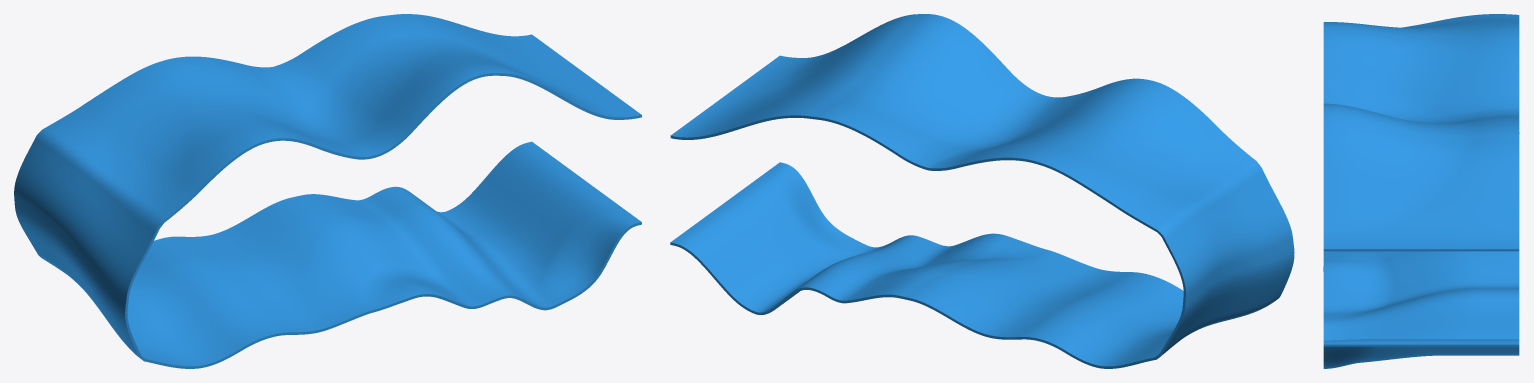
File: RiverWrap.fbx
3 views of the same model, side by side, from view 1: azimuth 30°, elevation 25°; view 2: azimuth 150°, elevation 25°; view 3: azimuth 270°, elevation 25° (orthographic). The views are drawn at different scales.
Visible parts, largest first — view 1: River_Tile_Straight.002; view 2: River_Tile_Straight.002; view 3: River_Tile_Straight.002.
Boxes of the visible parts, <box> form: River_Tile_Straight.002: <box>14,14,641,368</box>; River_Tile_Straight.002: <box>670,14,1294,368</box>; River_Tile_Straight.002: <box>1323,14,1519,368</box>.
Bounding box in the file's own units: 109 × 50.47 × 40.07.
